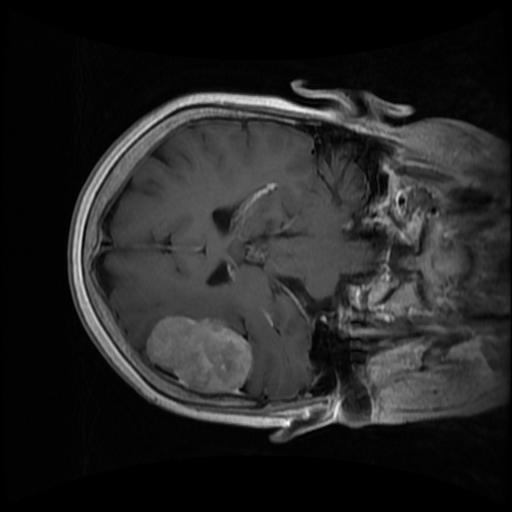meningioma: (145, 315, 253, 393)
